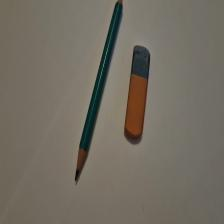eraser: (125, 45, 151, 140)
pencil: (75, 1, 123, 182)
